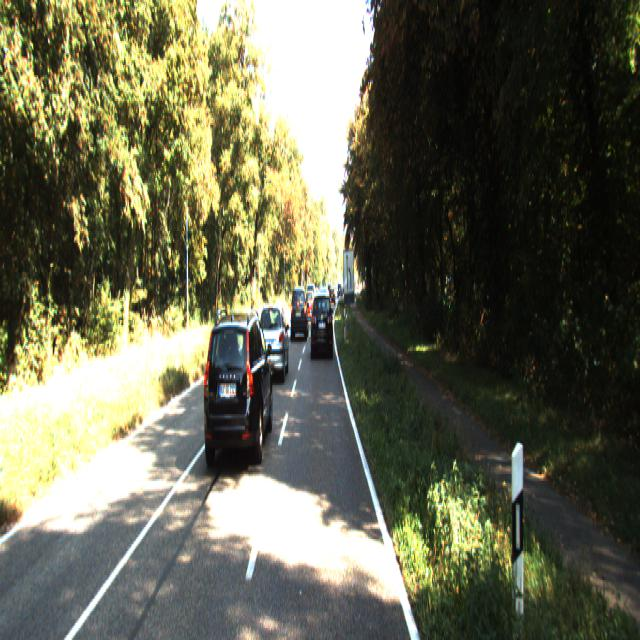Car: (200, 304, 274, 471), (256, 299, 289, 382), (310, 287, 332, 356), (290, 283, 308, 336)
